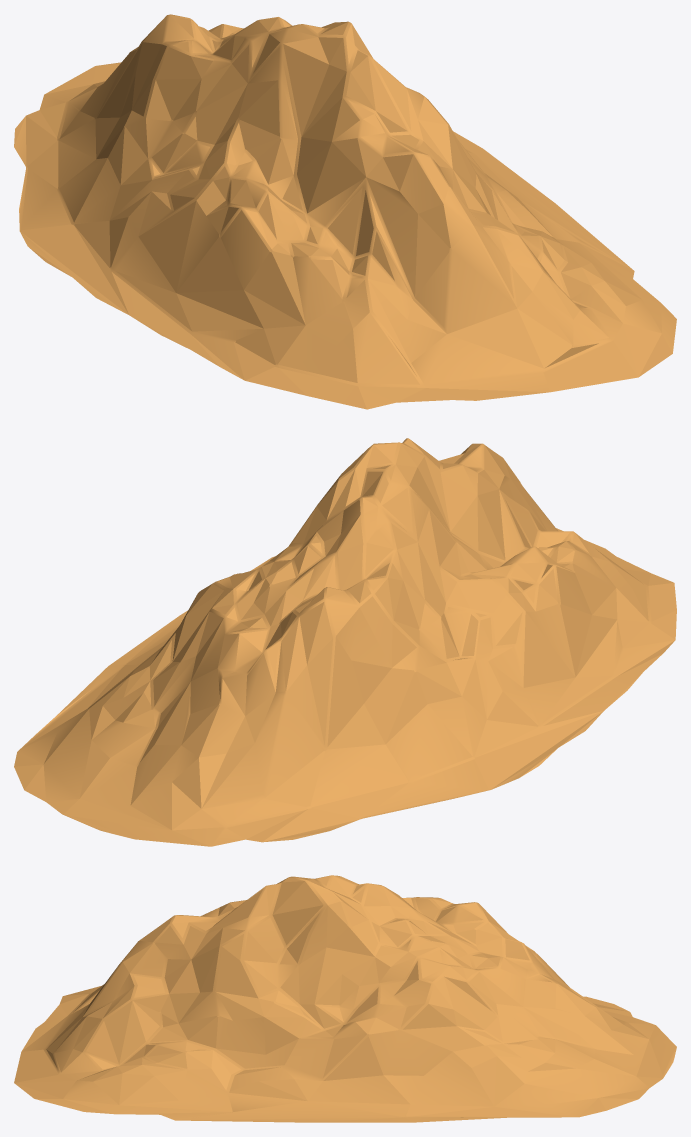
File: BigRock3.gltf
3 renders of one model, top to bottom at view 1: azimuth 30°, elevation 25°; view 2: azimuth 150°, elevation 25°; view 3: azimuth 270°, elevation 25°, orthographic. The views are drawn at different scales.
Parts seen in each view (by area): view 1: Bigrock3; view 2: Bigrock3; view 3: Bigrock3.
Part boxes in pixels (box(x1,y1,x2,y2)): Bigrock3: box(14, 14, 676, 409); Bigrock3: box(14, 438, 676, 846); Bigrock3: box(14, 875, 676, 1122).
Bounding box in the file's own units: 0.1572 × 0.0784 × 0.2767.
